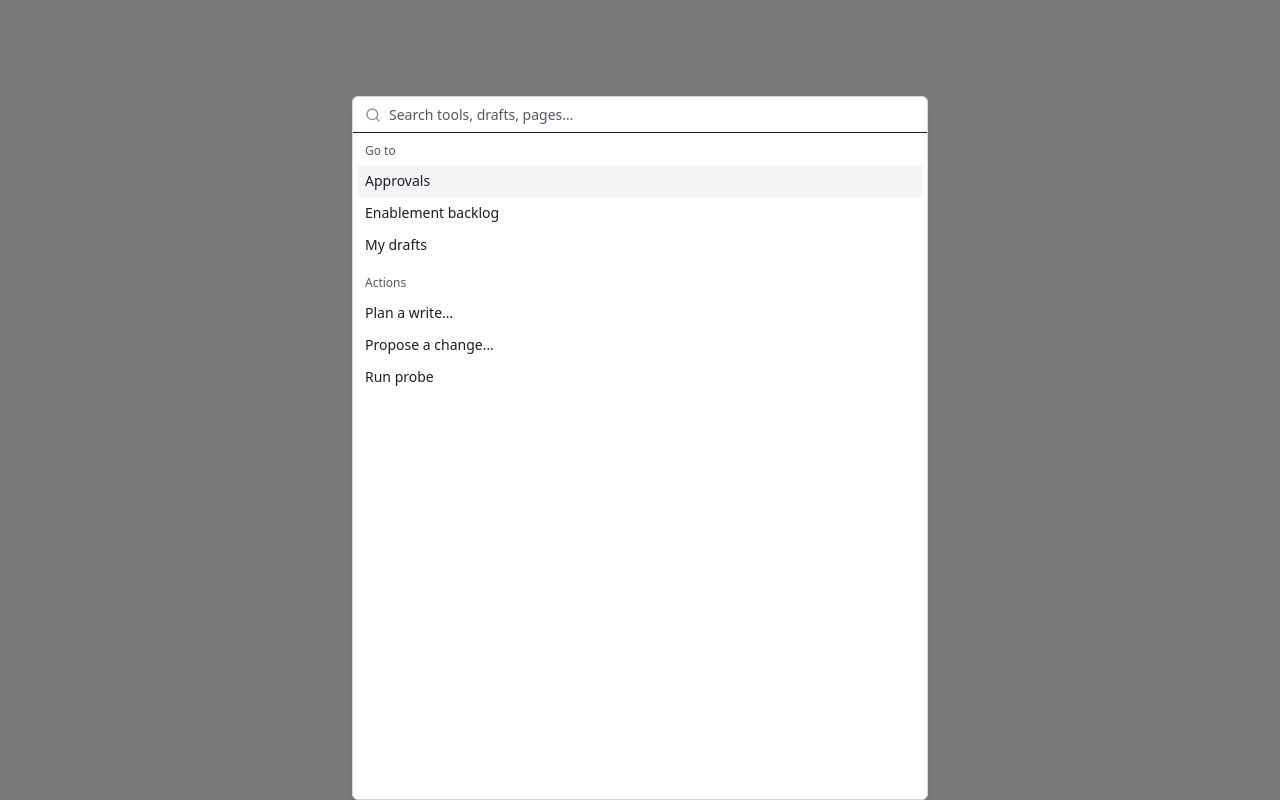
the choose block (03 §9.2 rule 3) › does not render a choose block when the response carries none
Type "voucher" into the dropdown with placeholder "Search tools, drafts, pages…" at (652, 114), box [389, 94, 915, 134]
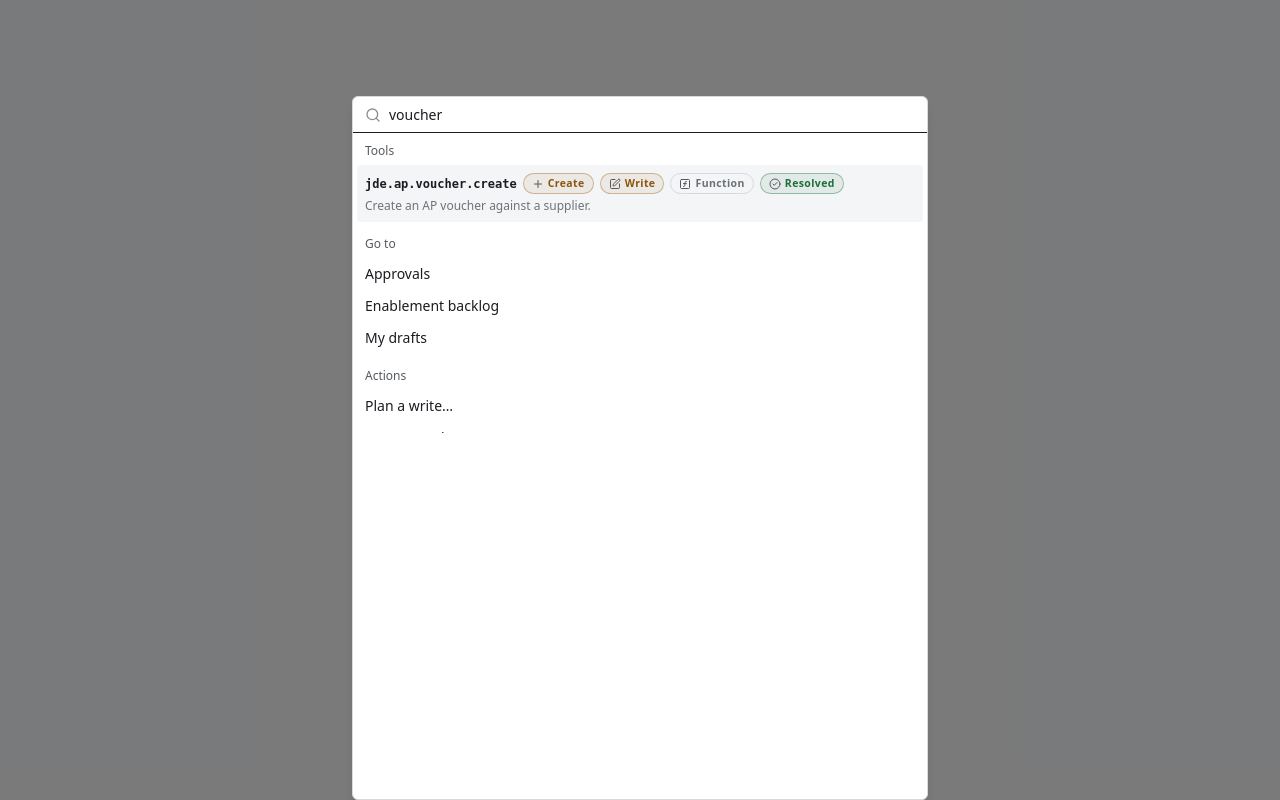
Expected: the text "jde.ap.voucher.create" is shown, [365, 176, 517, 192]
